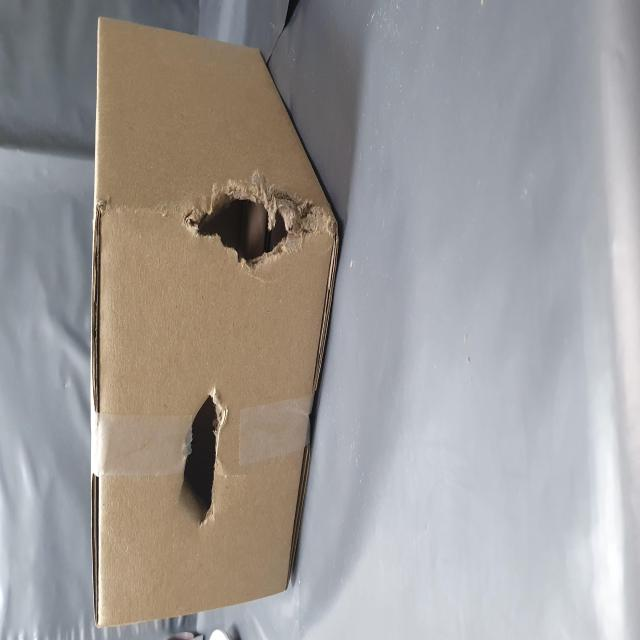damaged: (209, 332, 258, 550), (61, 312, 142, 402)
